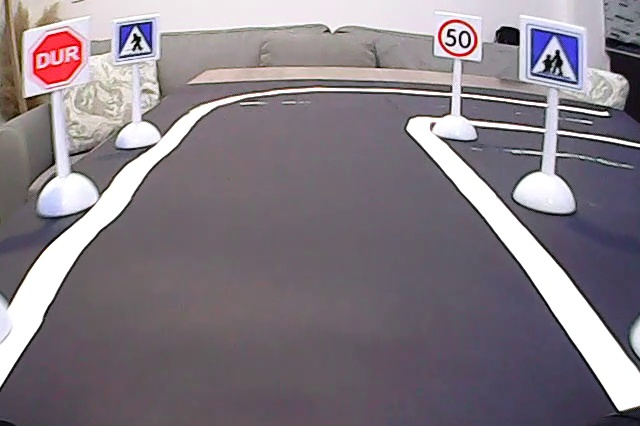pedestrian crossing: (116, 22, 154, 61)
school crossing: (523, 20, 582, 87)
speed limit 50: (435, 15, 481, 61)
stop sign: (25, 29, 87, 91)
